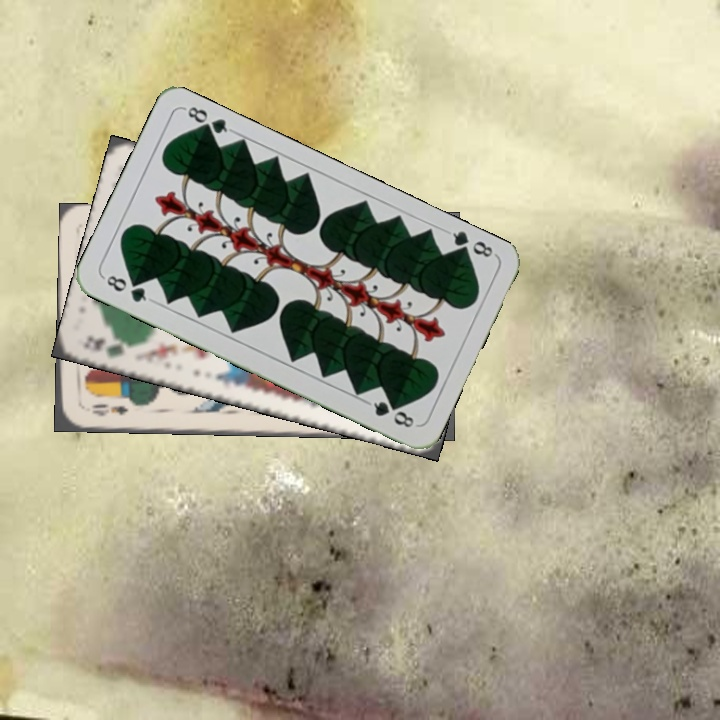EO: (87, 400, 130, 419)
G8: (442, 226, 498, 262), (99, 271, 155, 305)
GK: (80, 330, 141, 360)
